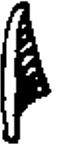Reed: (0, 3, 58, 142)
